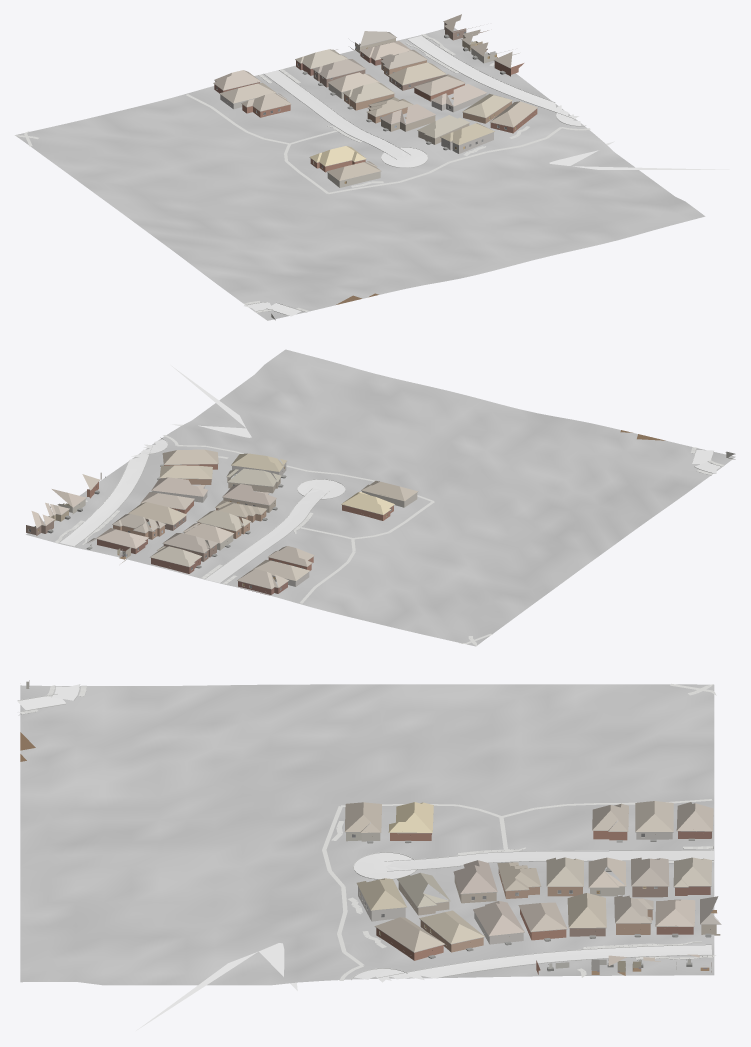
3 renders of one model, top to bottom at view 1: azimuth 30°, elevation 25°; view 2: azimuth 150°, elevation 25°; view 3: azimuth 270°, elevation 25°, orthographic. The views are drawn at different scales.
Visible parts, largest first — view 1: ground, roof, concrete, wall, walk, detail, curb, wall_stone, wall_stucco, water; view 2: ground, roof, concrete, wall, walk, detail, curb, wall_stucco, water, wall_stone; view 3: ground, roof, concrete, wall, walk, detail, curb, wall_stone, water, wall_stucco.
Boxes of the visible parts, x1,y1,x2,y2 form: ground: (15, 28, 705, 320); roof: (213, 14, 537, 180); concrete: (244, 35, 581, 316); wall: (214, 23, 537, 172); walk: (14, 34, 590, 312); detail: (213, 21, 537, 320); curb: (244, 35, 585, 316); wall_stone: (220, 94, 493, 153); wall_stucco: (327, 38, 519, 187); water: (549, 141, 729, 169); ground: (26, 349, 735, 646); roof: (31, 449, 417, 588); concrete: (59, 439, 720, 582); wall: (26, 464, 393, 595); walk: (55, 435, 723, 646); detail: (28, 430, 735, 590); curb: (59, 437, 721, 582); wall_stucco: (50, 451, 735, 563); water: (171, 365, 251, 437); wall_stone: (152, 463, 309, 586); ground: (20, 684, 714, 985); roof: (344, 801, 720, 965); concrete: (17, 684, 713, 982); wall: (376, 831, 711, 974); walk: (20, 683, 716, 980); detail: (20, 732, 721, 971); curb: (17, 684, 713, 979); wall_stone: (358, 832, 672, 944); water: (136, 943, 297, 1030); wall_stucco: (26, 680, 720, 935).
Bounding box in the file's own units: 294 × 13.65 × 260.
